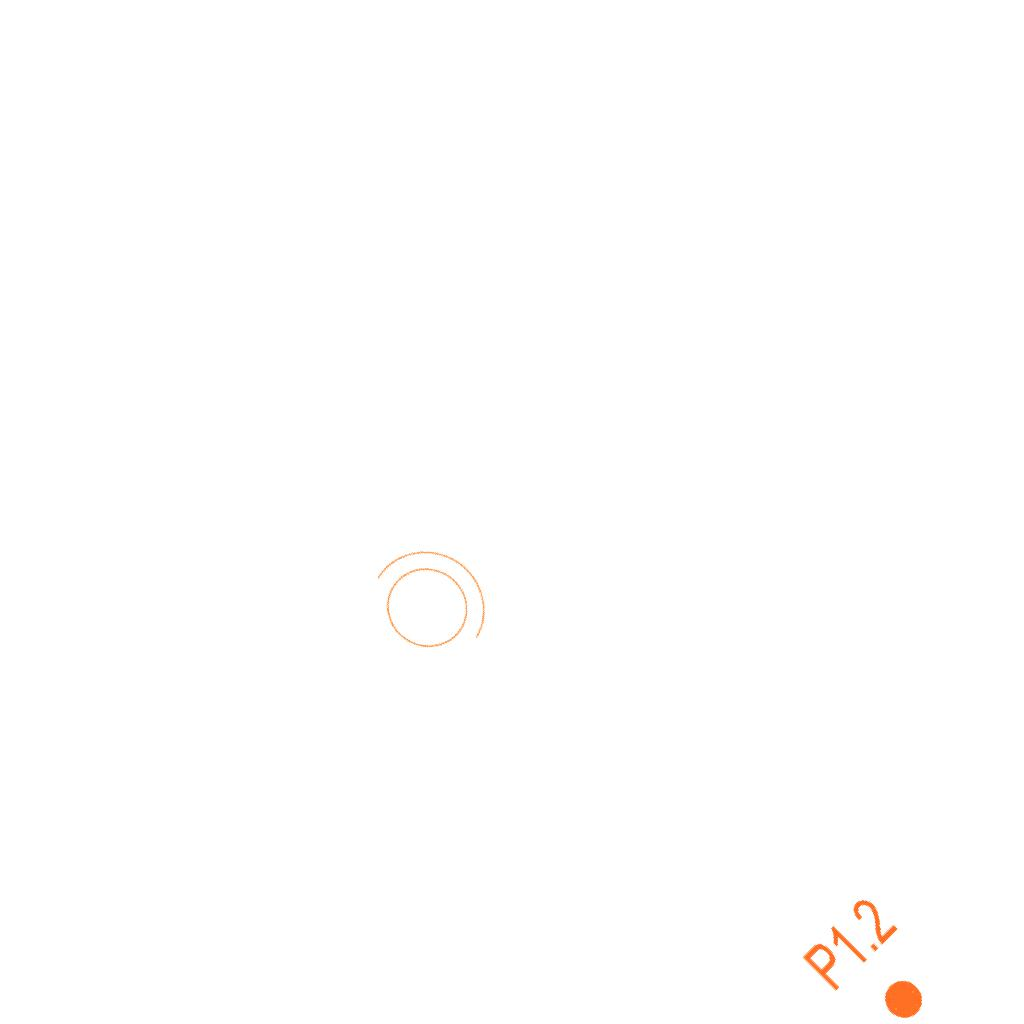Downlight_LED_Einbauleuchten_Flur: (797, 890, 954, 1024)
Scheinwerfer_fuer_Alarmbeleuchtung: (341, 520, 513, 684)
